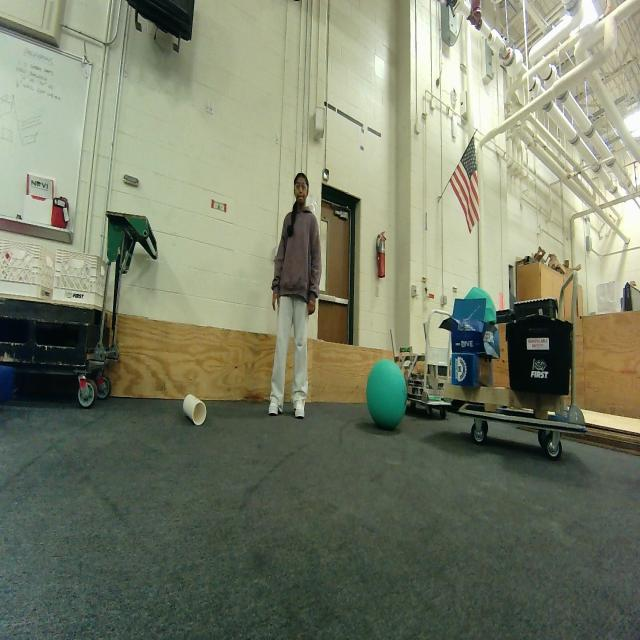algae: (364, 357, 412, 429)
coral: (178, 383, 212, 433)
